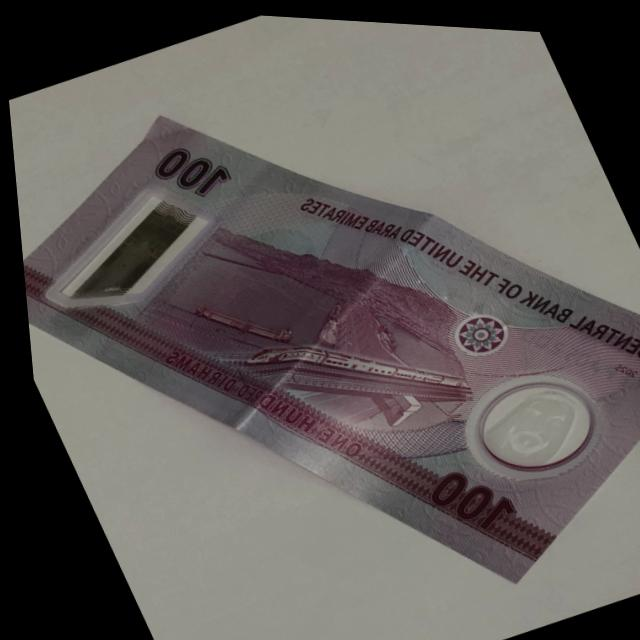100_AED: (23, 114, 640, 590)
